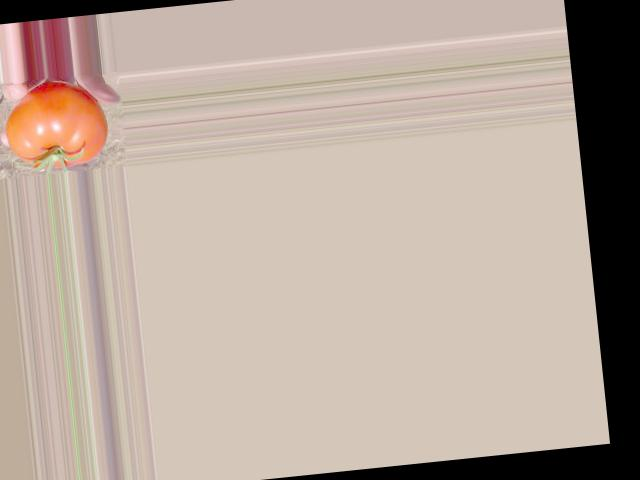tomato: (1, 76, 109, 172)
